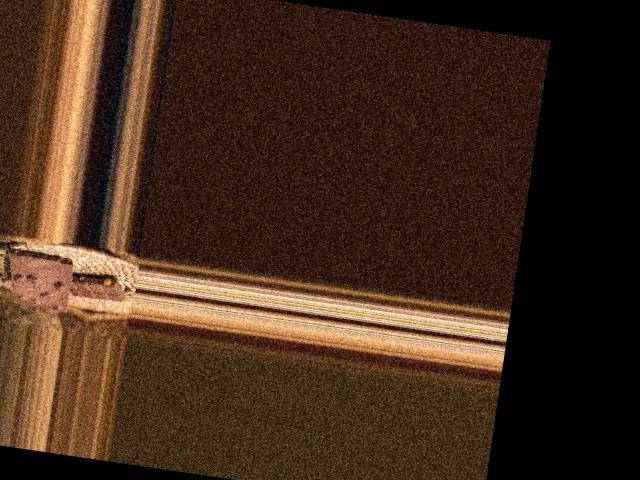chocolate: (1, 248, 78, 314)
